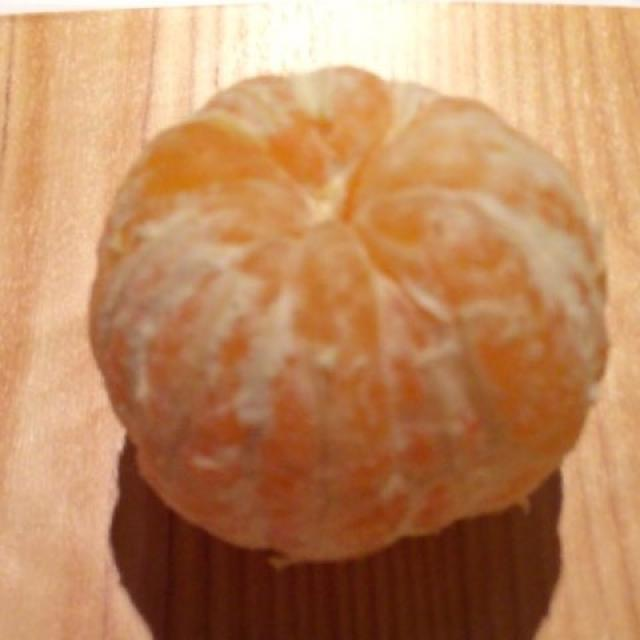mandarine: (91, 66, 597, 497)
